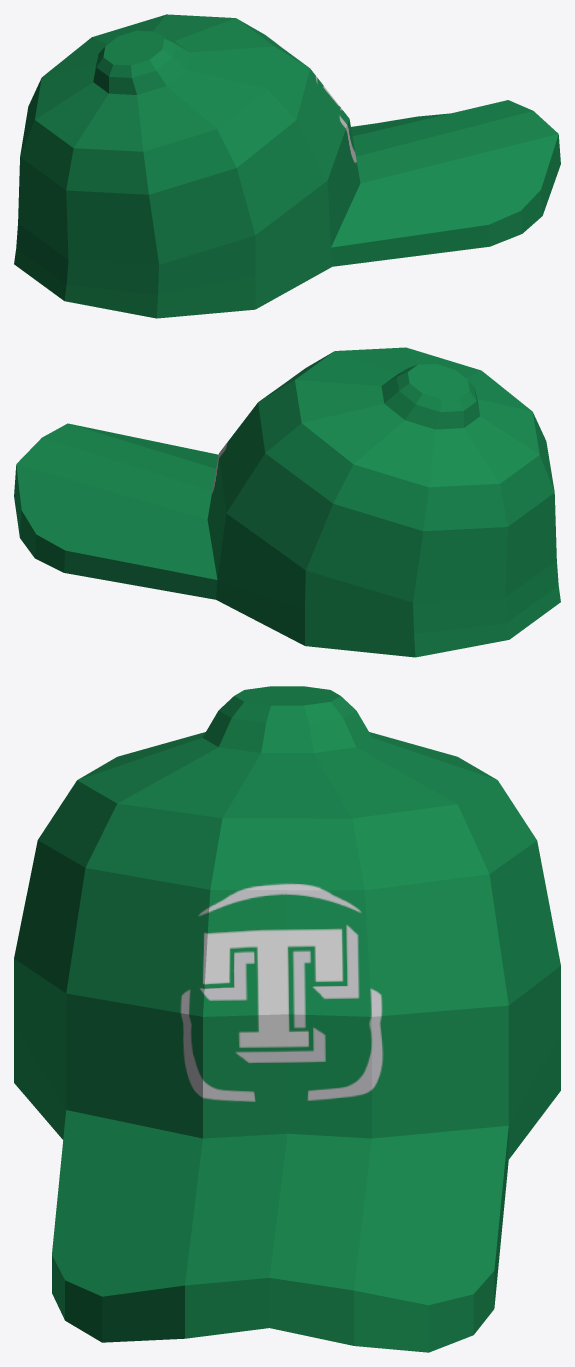
The model's file is GorraOlmecas.glb.
3 views of the same model, one above another, from view 1: azimuth 30°, elevation 25°; view 2: azimuth 150°, elevation 25°; view 3: azimuth 270°, elevation 25° (orthographic). The views are drawn at different scales.
Parts seen in each view (by area): view 1: Cylinder; view 2: Cylinder; view 3: Cylinder.
Boxes of the visible parts, x1=… form: Cylinder: x1=14, y1=14, x2=560, y2=318; Cylinder: x1=14, y1=347, x2=560, y2=657; Cylinder: x1=14, y1=686, x2=560, y2=1352.
Size of the model in its own units: 7.48 by 3.25 by 4.31.
1 material, 1 textured.
